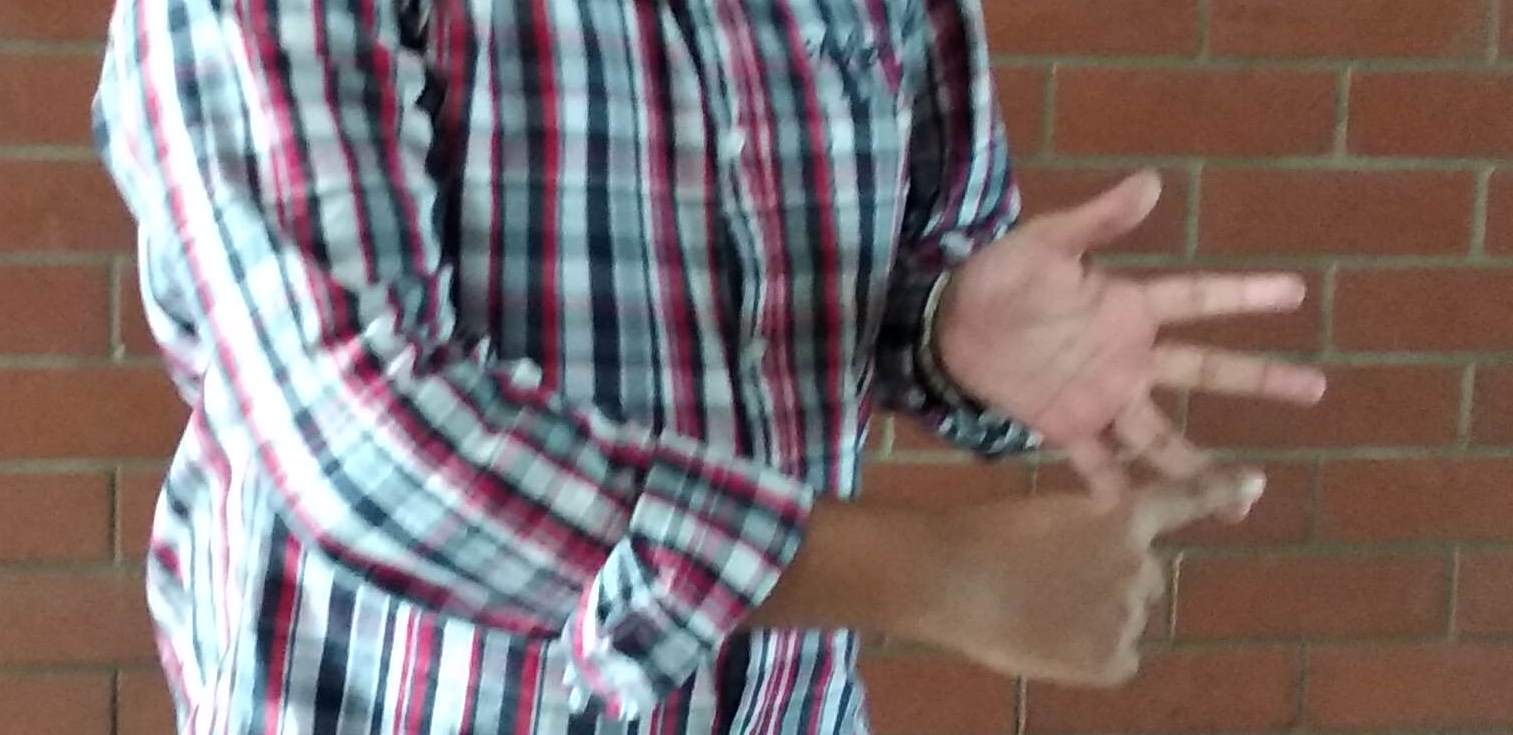e: (984, 224, 1329, 588)
